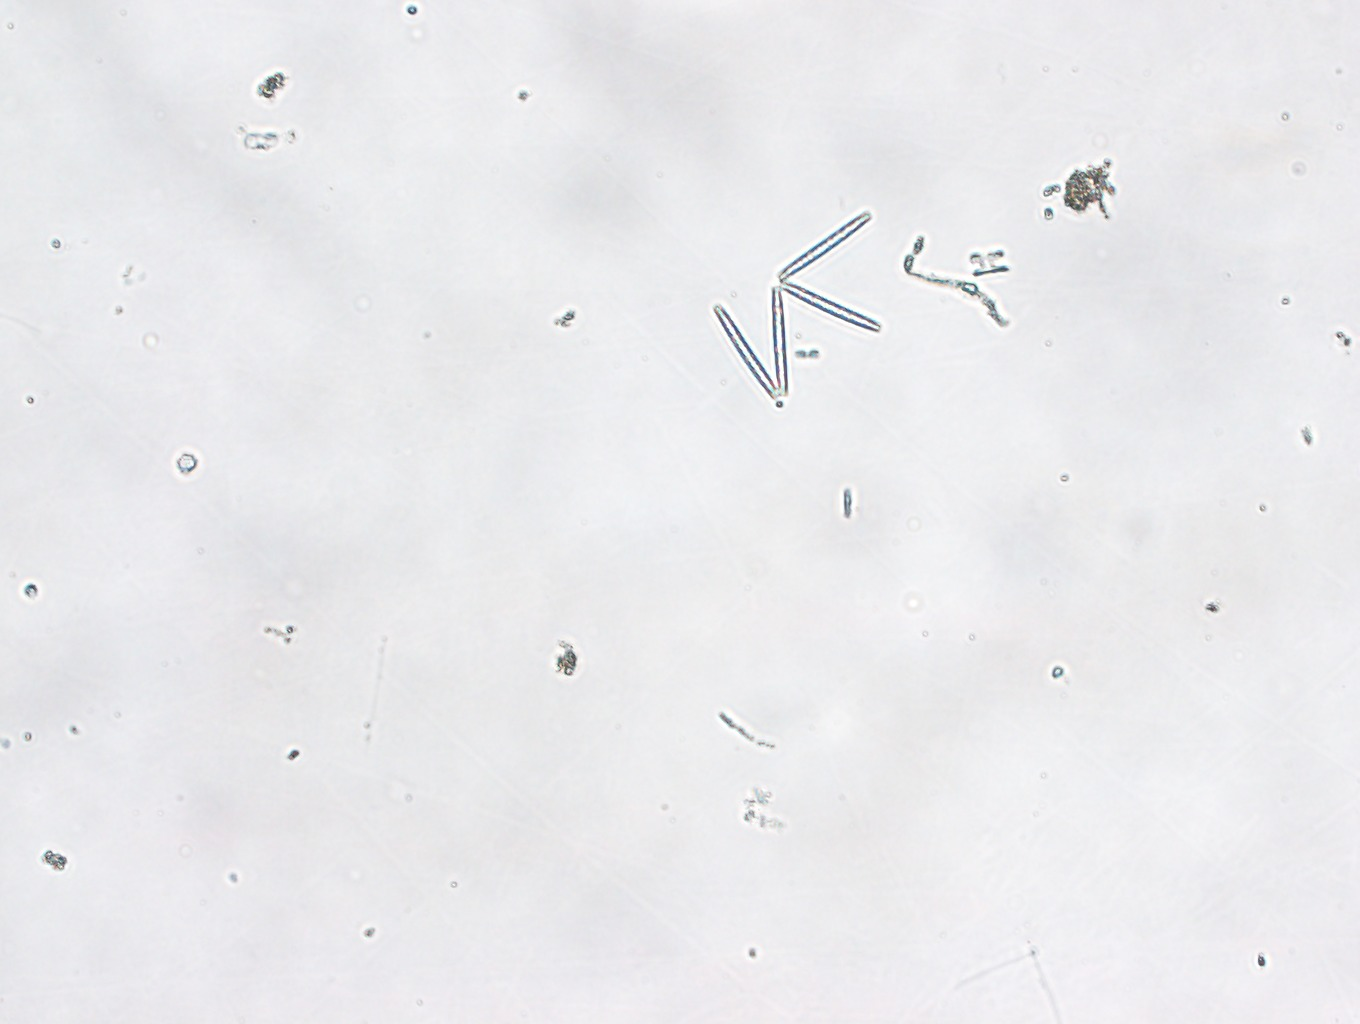thalassionema nitzschioides: (713, 209, 881, 400)
